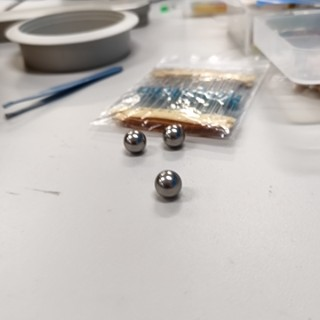ironball: (138, 164, 190, 203), (155, 106, 187, 151), (116, 122, 153, 157)
